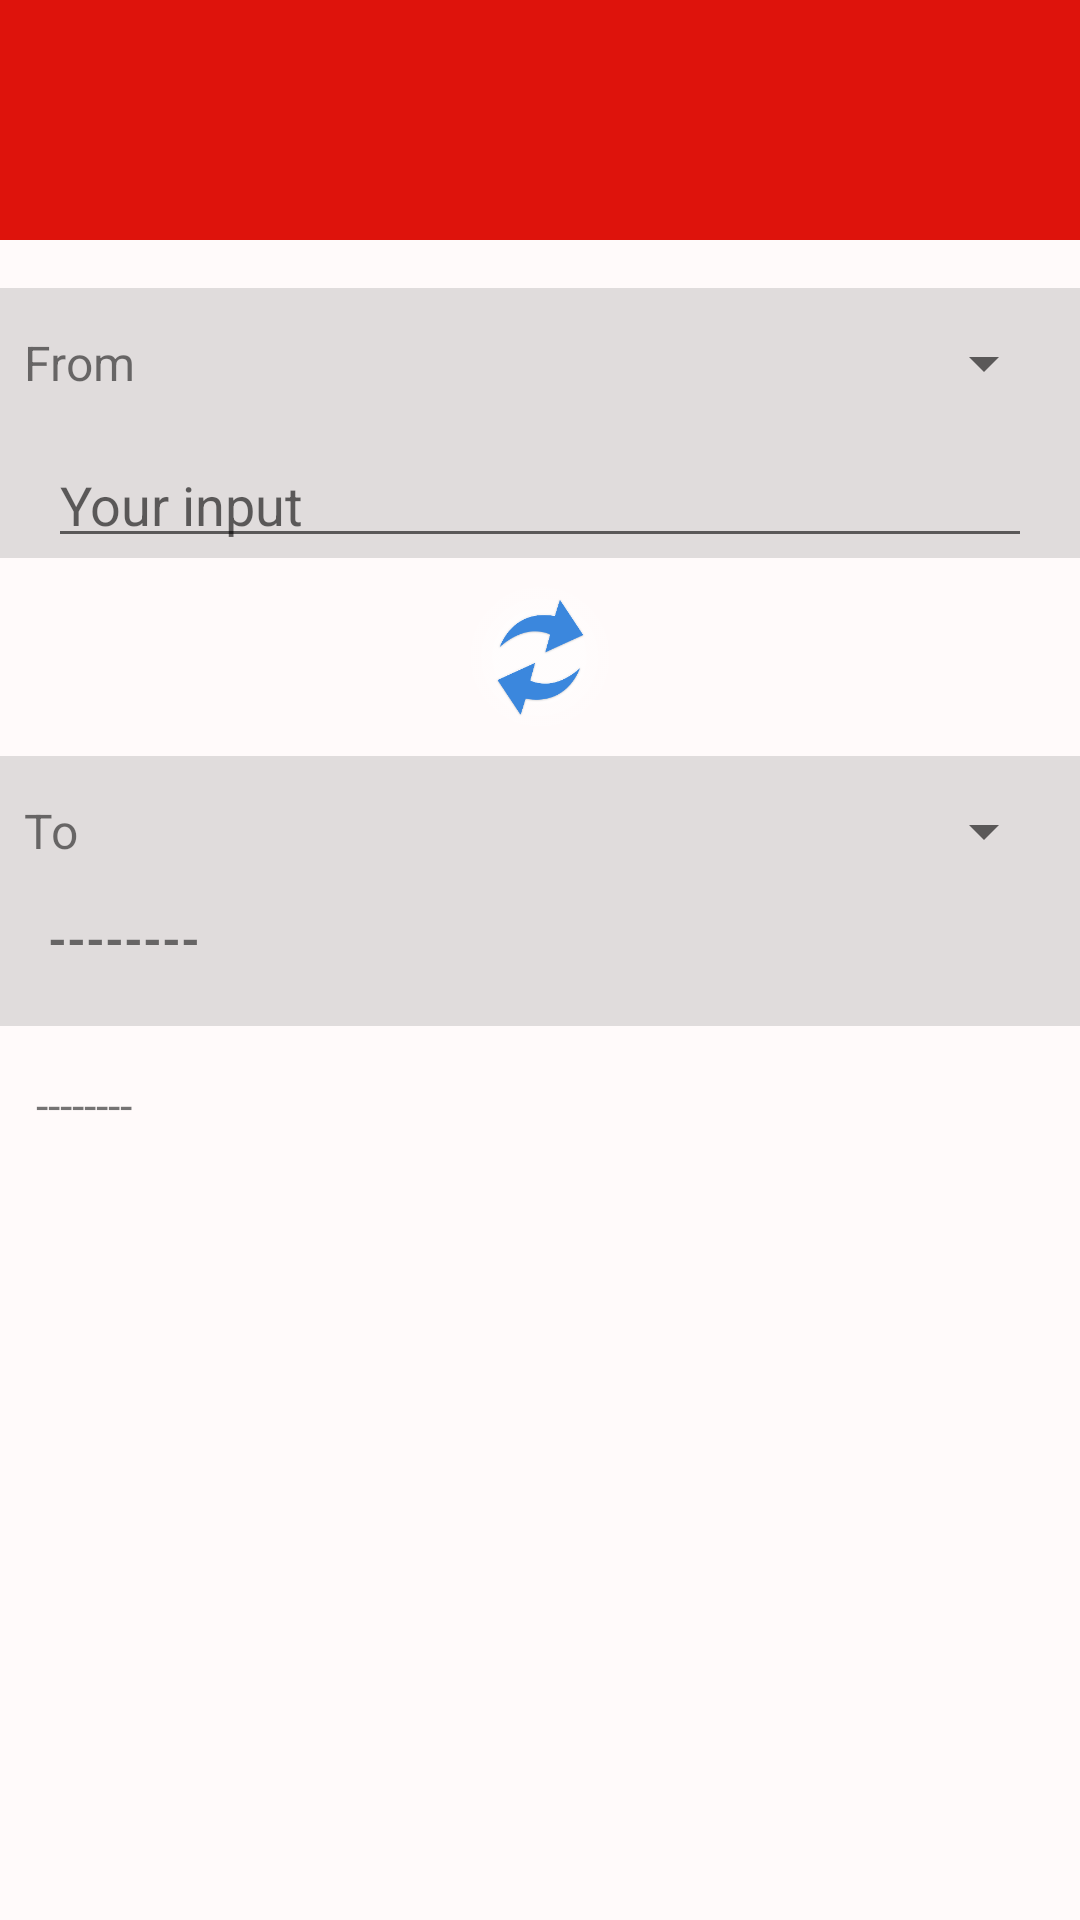

Where icons sit on this 1080 × 1920 app screen, as bbox=[x1, y1, x2, y2]:
conv: bbox=[498, 600, 583, 715]
